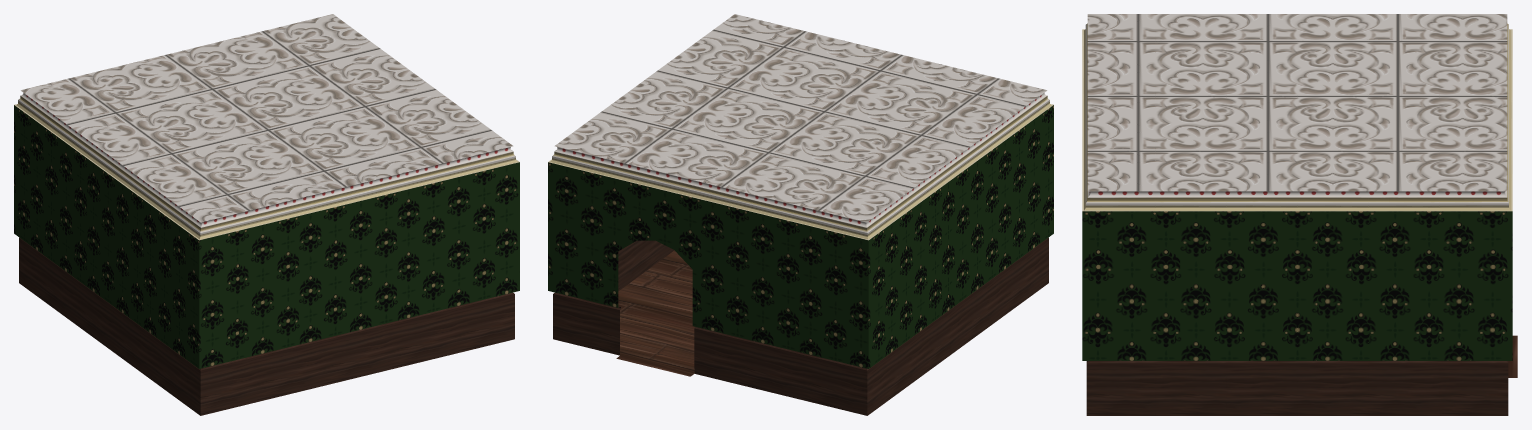
Rendered from Bathroom_Upstairs_FINAL.fbx.
3 views of the same model, side by side, from view 1: azimuth 30°, elevation 25°; view 2: azimuth 150°, elevation 25°; view 3: azimuth 270°, elevation 25° (orthographic). The views are drawn at different scales.
Visible parts, largest first — view 1: Bathroom_Upstairs; view 2: Bathroom_Upstairs; view 3: Bathroom_Upstairs.
Boxes of the visible parts, x1=… form: Bathroom_Upstairs: x1=14, y1=14, x2=519, y2=415; Bathroom_Upstairs: x1=548, y1=14, x2=1053, y2=415; Bathroom_Upstairs: x1=1082, y1=14, x2=1517, y2=415.
Size of the model in its own units: 602 by 346 by 609.
